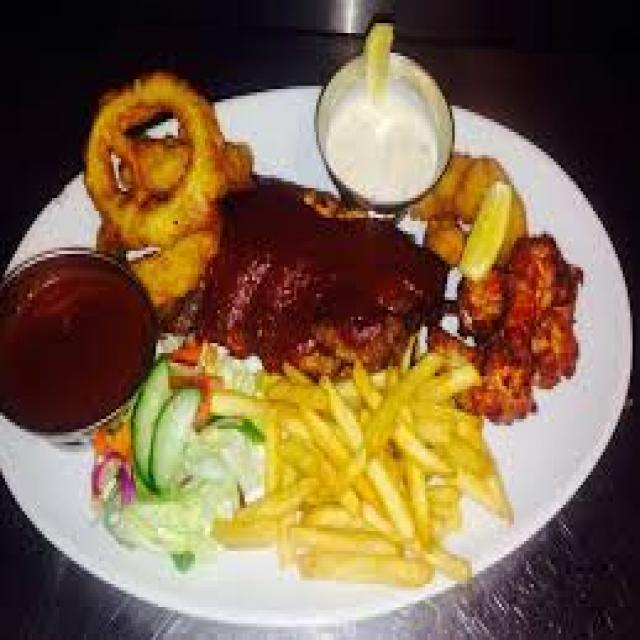Chicken Wings: (217, 165, 574, 412)
French Fries: (218, 353, 522, 594)
Onion Rings: (77, 49, 237, 307)
